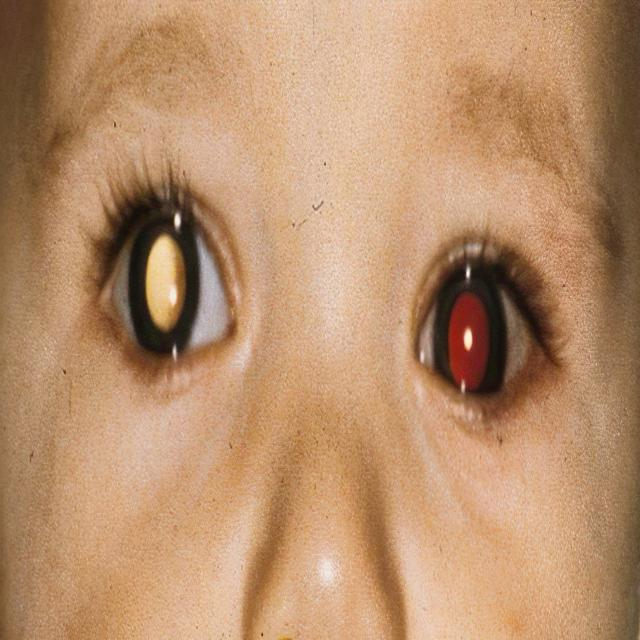reflexo-alterado: (86, 150, 244, 388)
reflexo-normal: (414, 200, 561, 440)
